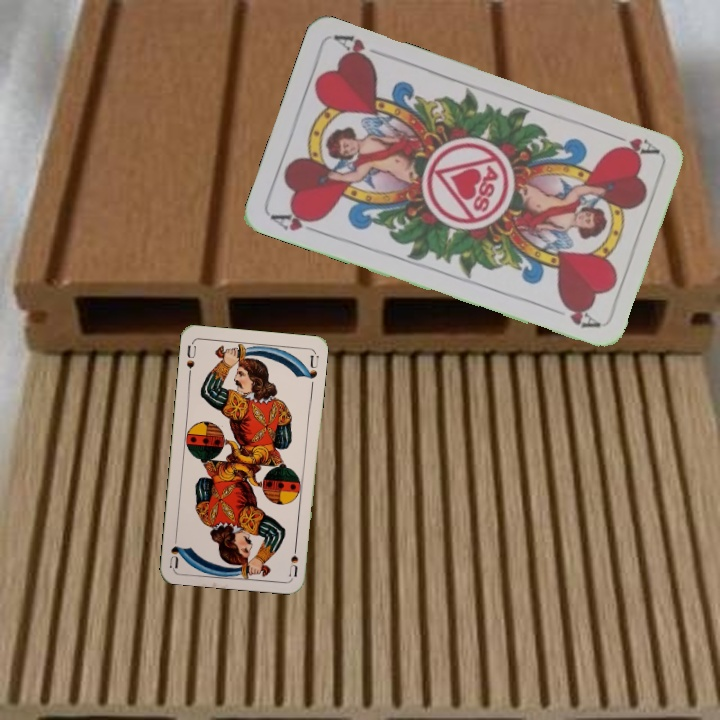HA: (603, 128, 661, 160), (267, 207, 325, 237)
SU: (182, 339, 199, 380), (285, 538, 301, 579)
